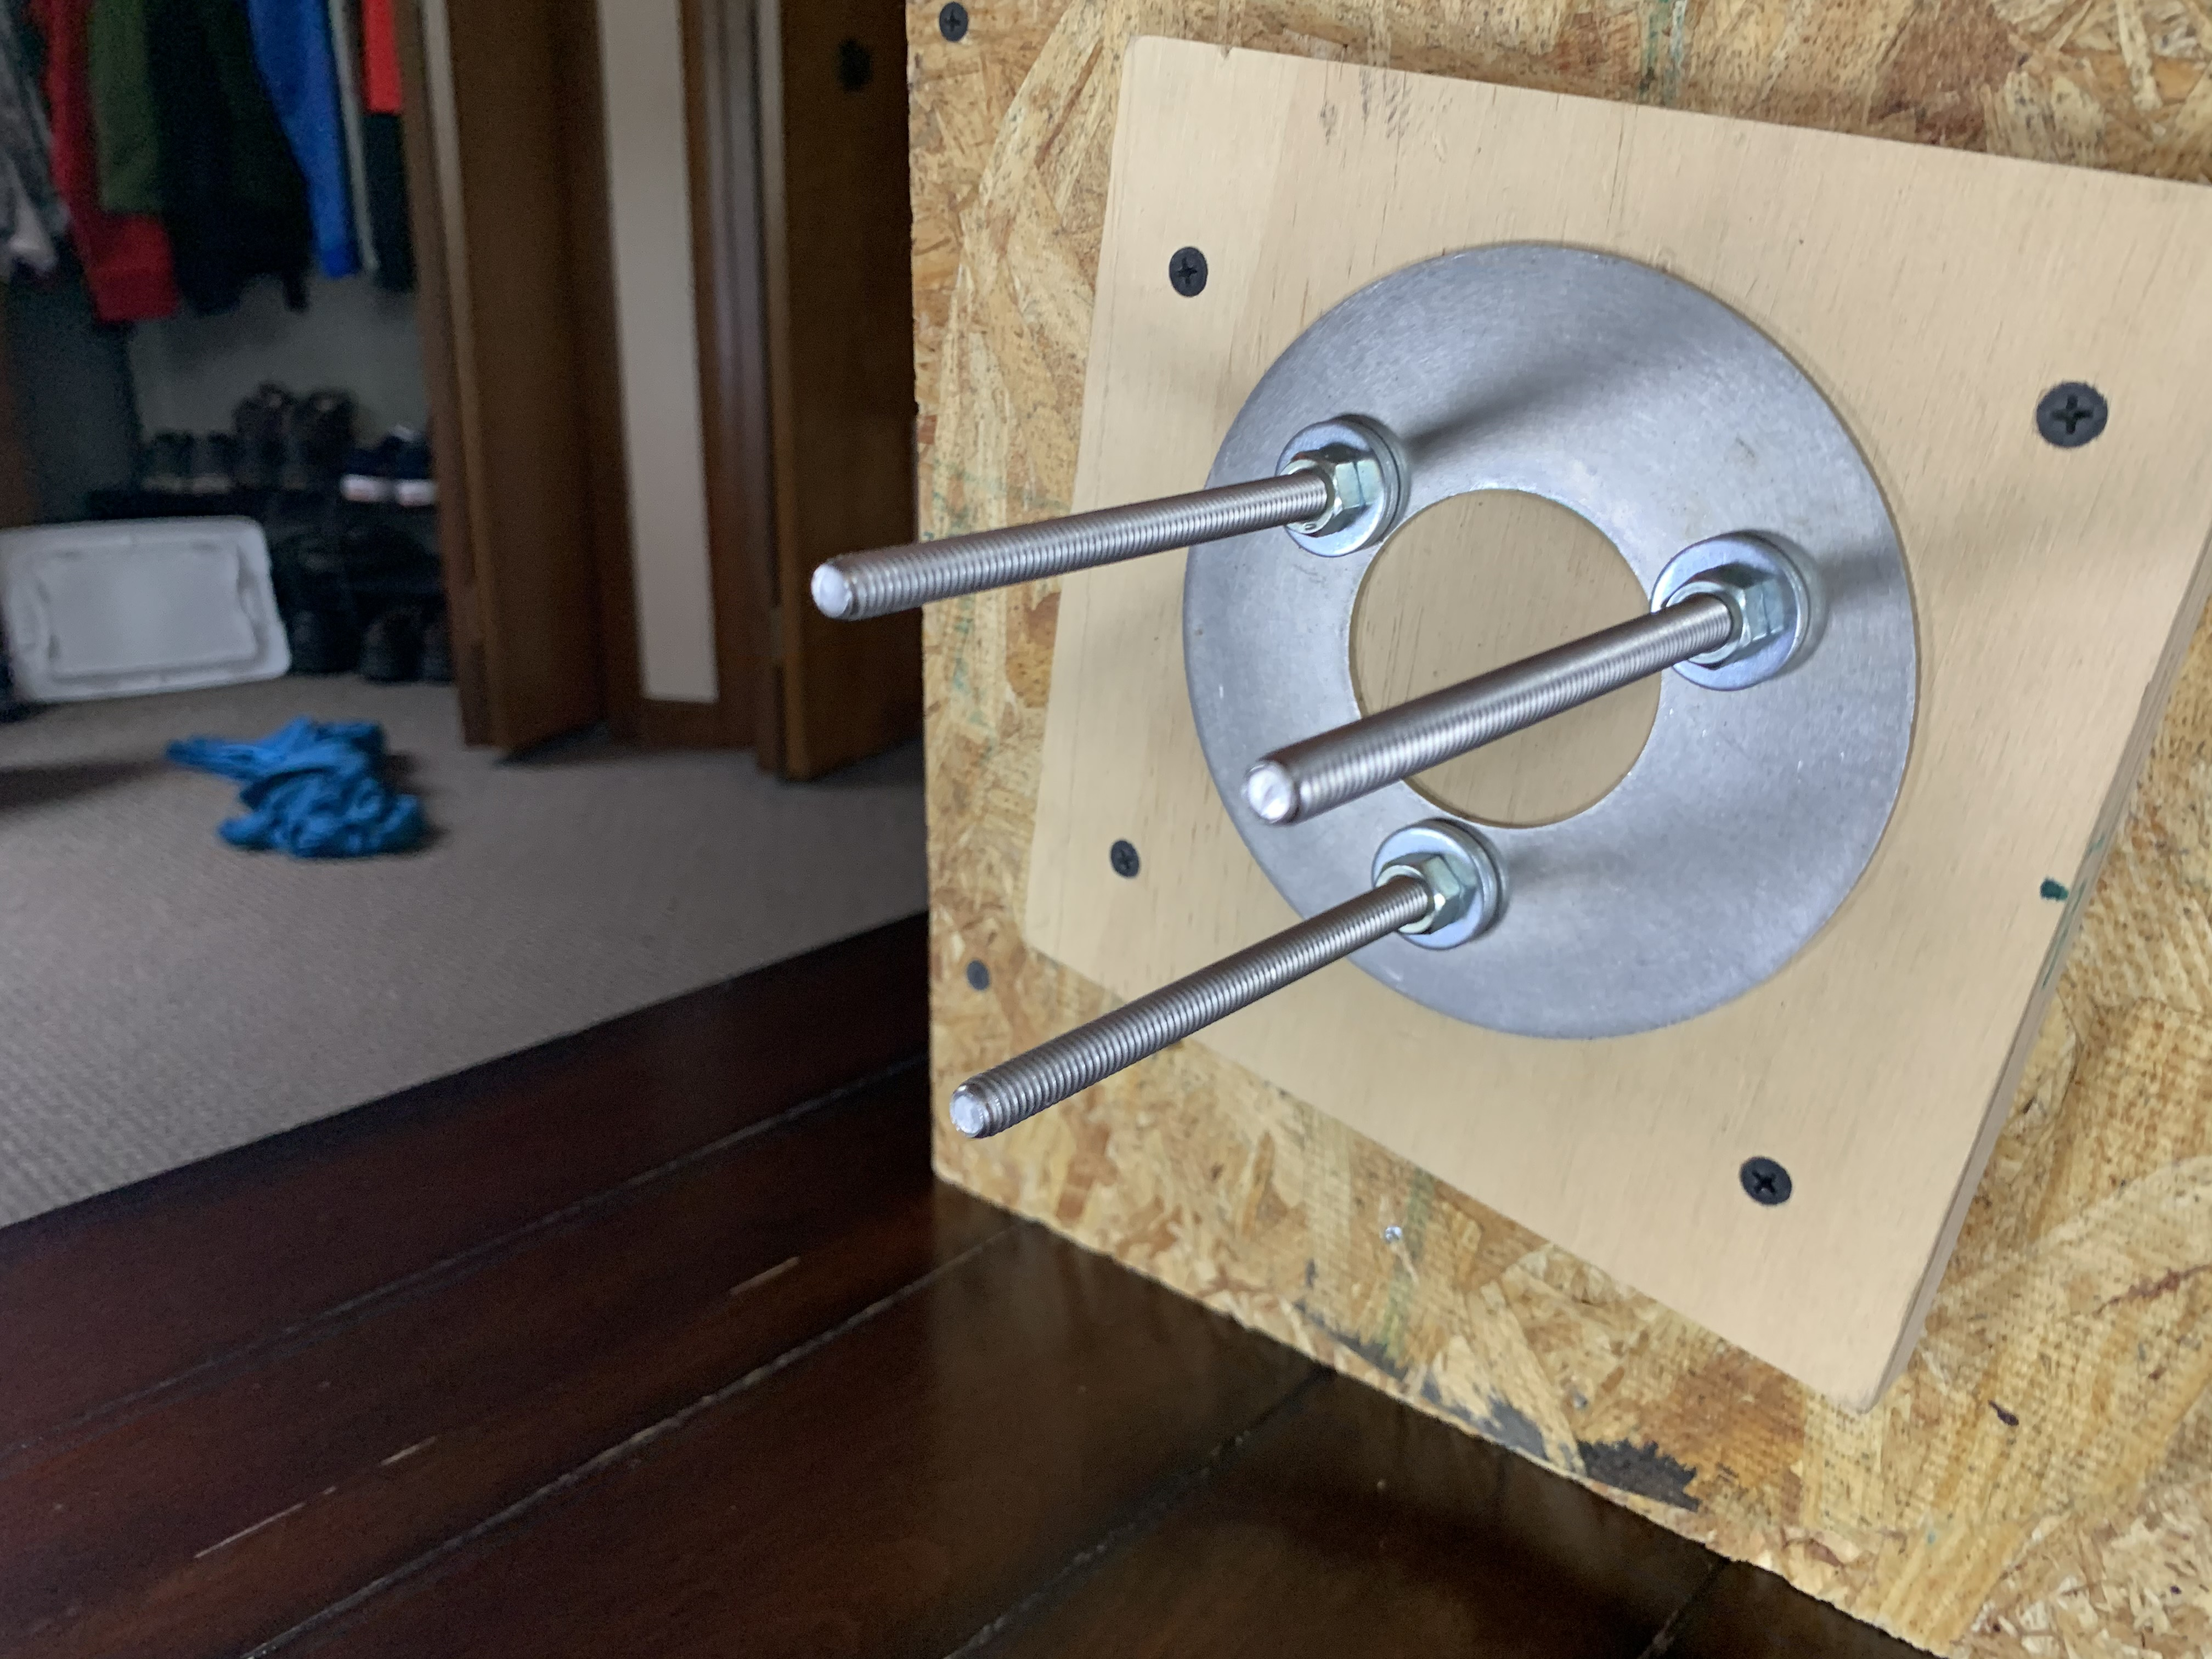bolt: (1651, 533, 1822, 685), (1275, 410, 1411, 558), (1371, 817, 1503, 951)
